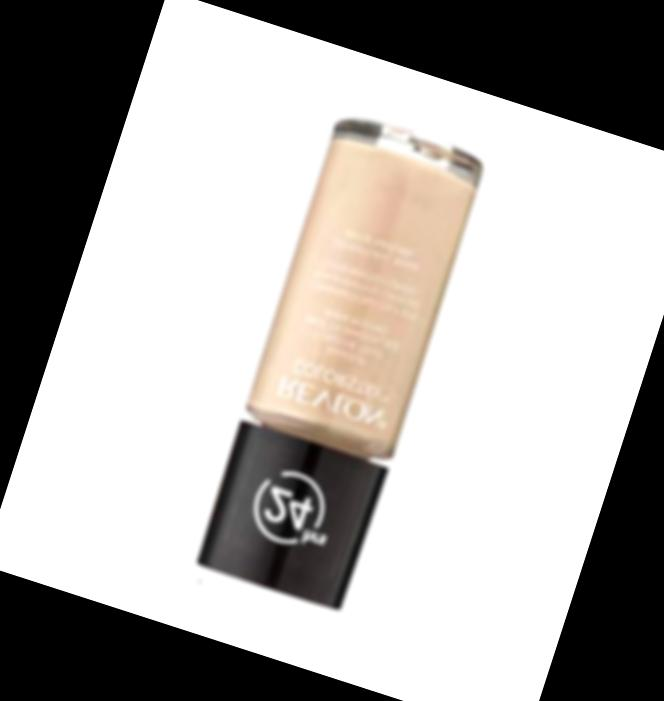cosmetic: (191, 113, 486, 610)
